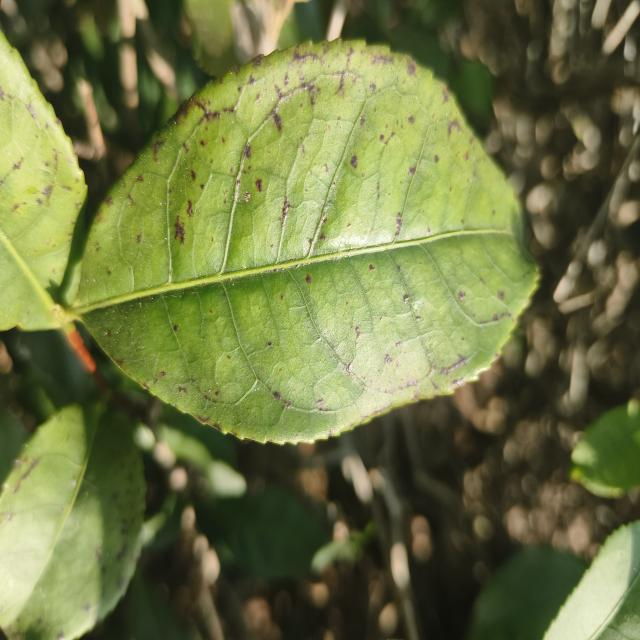Leaf: (60, 40, 537, 443), (0, 403, 145, 640), (0, 33, 86, 330), (198, 486, 375, 580), (544, 521, 640, 640), (467, 546, 586, 640), (571, 400, 640, 497)
